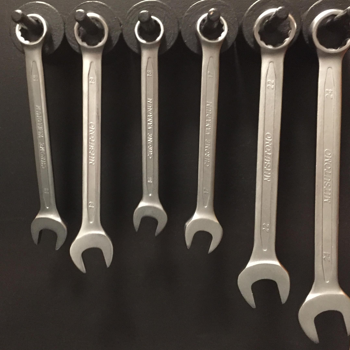bottom: (295, 288, 350, 344), (235, 256, 292, 308), (67, 229, 114, 274), (181, 210, 224, 254), (28, 214, 69, 252), (131, 198, 169, 238)
top: (250, 6, 298, 53), (306, 7, 350, 57), (72, 10, 110, 51), (13, 11, 50, 47), (194, 10, 229, 47), (132, 14, 166, 47)
